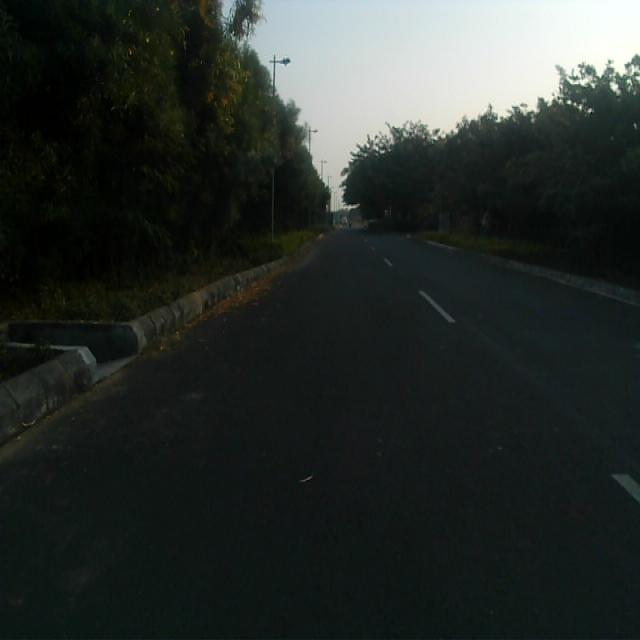lane: (0, 232, 640, 640)
